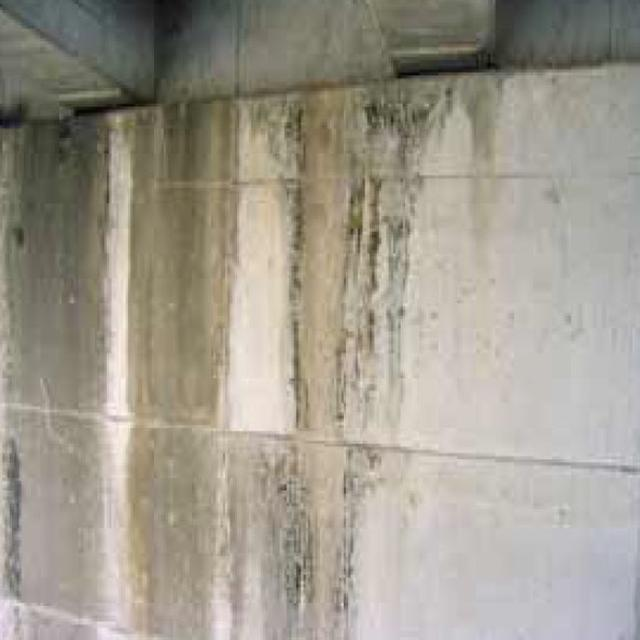leakage: (27, 94, 390, 627)
